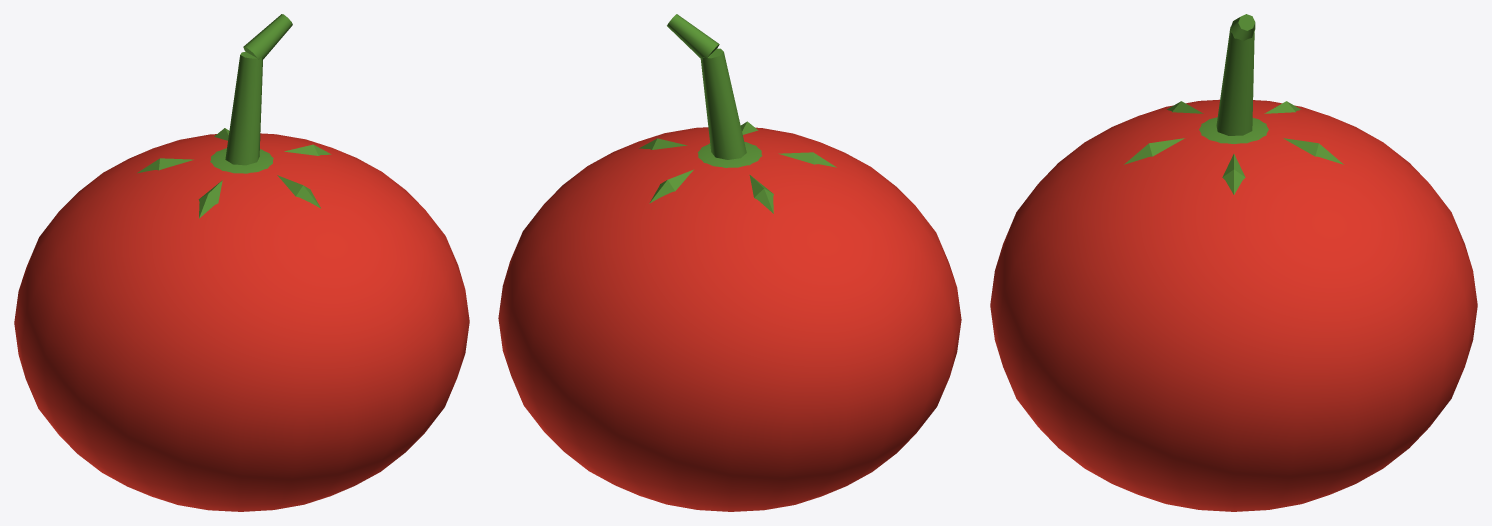
Rendered from food_tomato.glb.
3 renders of one model, left to right at view 1: azimuth 30°, elevation 25°; view 2: azimuth 150°, elevation 25°; view 3: azimuth 270°, elevation 25°, orthographic. The views are drawn at different scales.
Parts seen in each view (by area): view 1: Tomato, Tomato stem, Bent stem tip, Stem depression; view 2: Tomato, Tomato stem, Bent stem tip, Stem depression; view 3: Tomato, Tomato stem, Stem depression.
Boxes of the visible parts, x1,y1,x2,y2 form: Tomato: (14, 133, 469, 511); Tomato stem: (225, 52, 262, 165); Bent stem tip: (243, 14, 292, 60); Stem depression: (210, 148, 273, 173); Tomato: (498, 127, 961, 511); Tomato stem: (700, 48, 746, 159); Bent stem tip: (667, 14, 719, 59); Stem depression: (697, 142, 762, 167); Tomato: (990, 99, 1477, 511); Tomato stem: (1216, 26, 1254, 135); Stem depression: (1199, 117, 1268, 143).
Size of the model in its own units: 0.116 by 0.1277 by 0.114.
